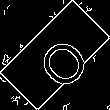O_NW: (22, 22, 88, 88)
